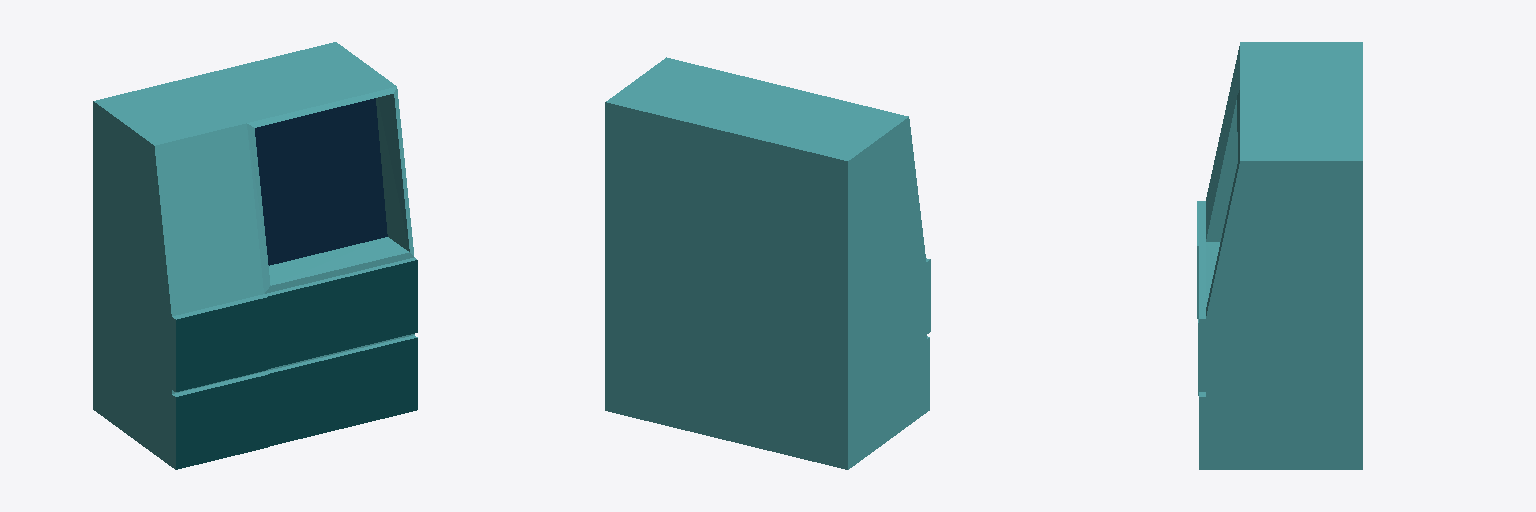
Rendered from newscene.obj.
The picture shows the model from 3 angles: view 1: azimuth 30°, elevation 25°; view 2: azimuth 150°, elevation 25°; view 3: azimuth 270°, elevation 25°; orthographic projection.
Visible parts, largest first — view 1: cube120; view 2: cube120; view 3: cube120.
Part boxes in pixels (left/top/right/bottom): cube120: left=93, top=42, right=417, bottom=469; cube120: left=605, top=57, right=930, bottom=469; cube120: left=1197, top=42, right=1362, bottom=469.
Bounding box in the file's own units: 211 × 256 × 124.